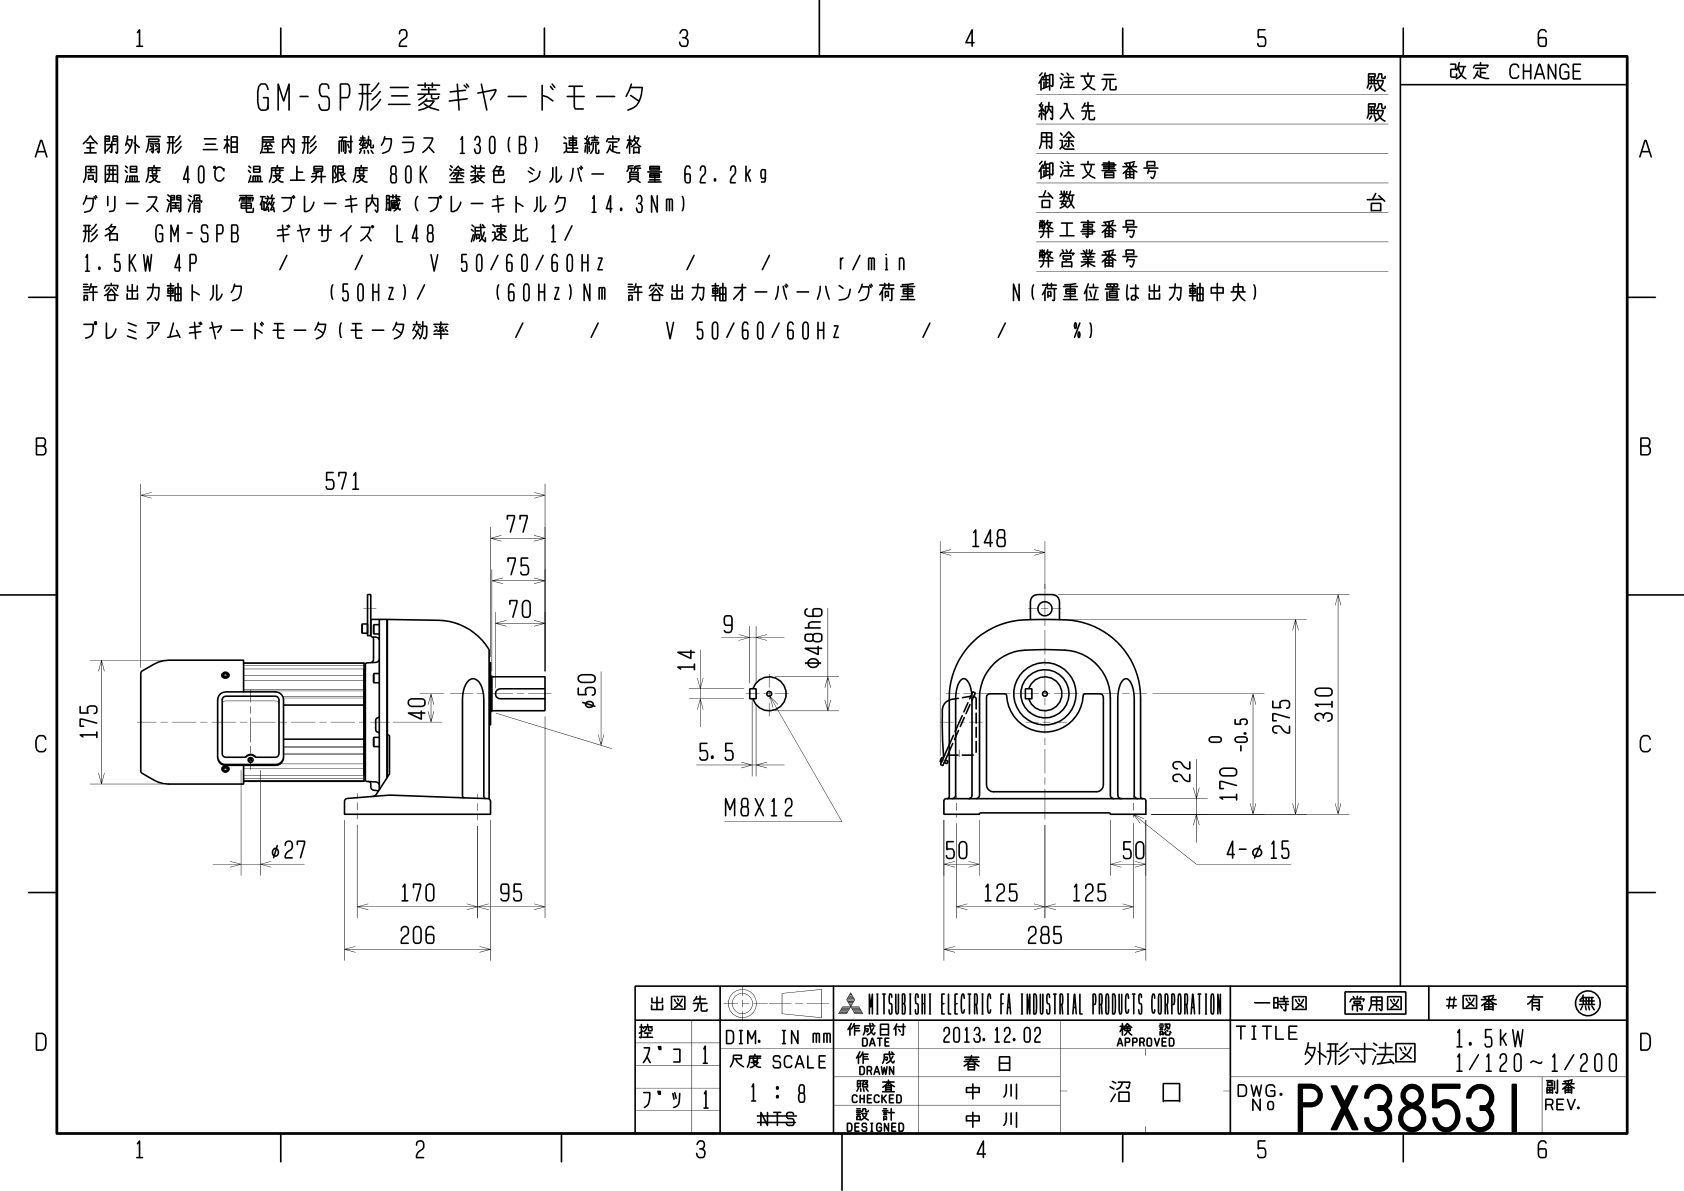GM_SP_屋内_三相_脚: (73, 451, 1383, 963)
